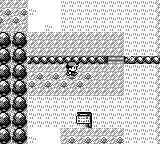leer: (76, 112, 92, 127)
main: (66, 62, 79, 76)
no-caminable: (0, 32, 28, 143)
salto: (26, 56, 107, 64), (126, 56, 158, 63)
